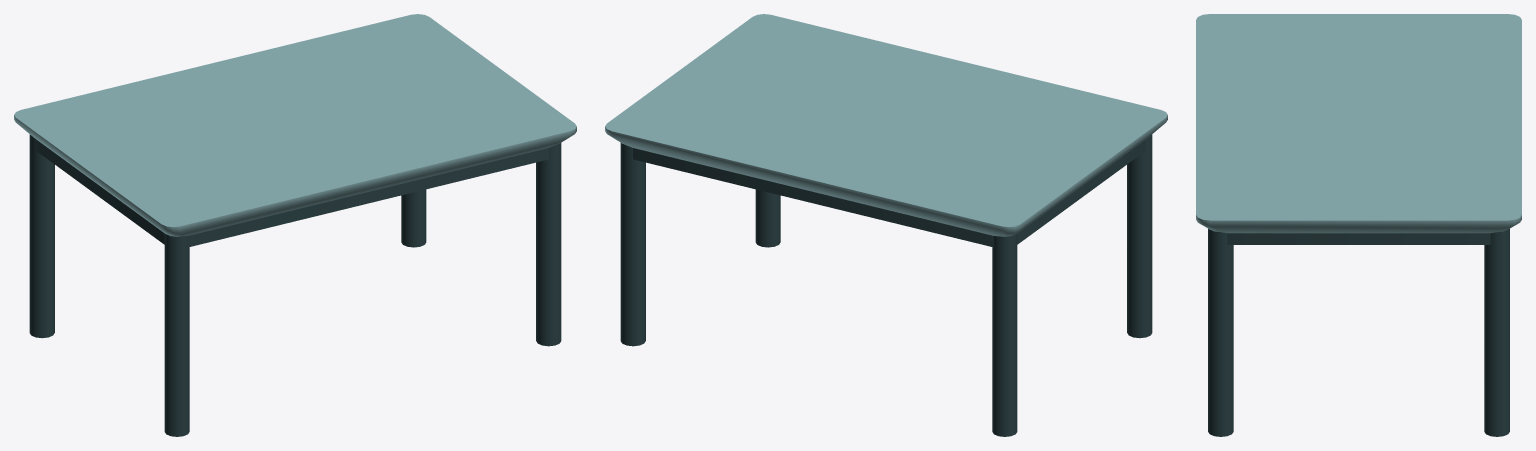
The model's file is EM_133_blue_table_var1.glb.
3 views of the same model, side by side, from view 1: azimuth 30°, elevation 25°; view 2: azimuth 150°, elevation 25°; view 3: azimuth 270°, elevation 25° (orthographic). The views are drawn at different scales.
Visible parts, largest first — view 1: table_var1, legs_var1; view 2: table_var1, legs_var1; view 3: table_var1, legs_var1.
Boxes of the visible parts, x1,y1,x2,y2 form: table_var1: [14, 14, 576, 247]; legs_var1: [29, 134, 561, 436]; table_var1: [605, 14, 1167, 247]; legs_var1: [620, 134, 1152, 436]; table_var1: [1196, 14, 1521, 244]; legs_var1: [1208, 228, 1509, 436].
Size of the model in its own units: 2.25 by 1.12 by 1.5.
